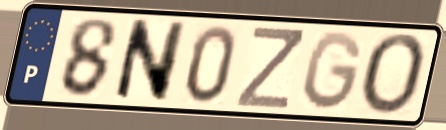0: (183, 22, 240, 107)
8: (60, 16, 119, 100)
G: (301, 29, 366, 114)
N: (110, 16, 190, 104)
O: (357, 31, 431, 119)
Z: (233, 24, 306, 112)
